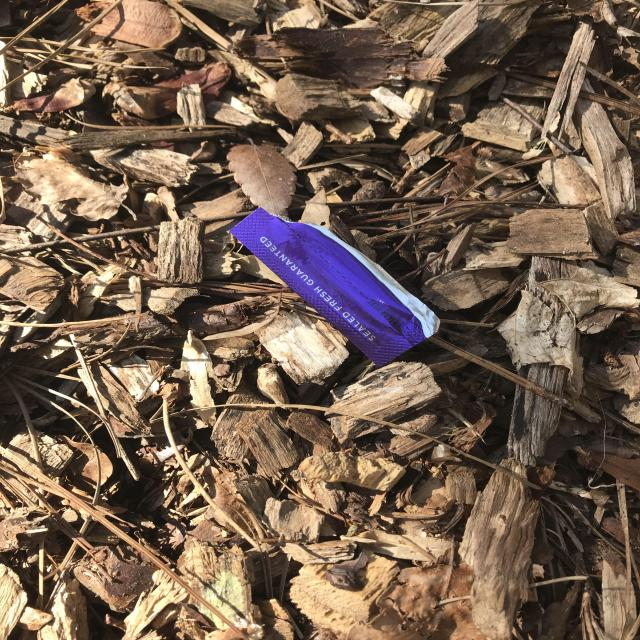litter: (219, 186, 455, 382)
